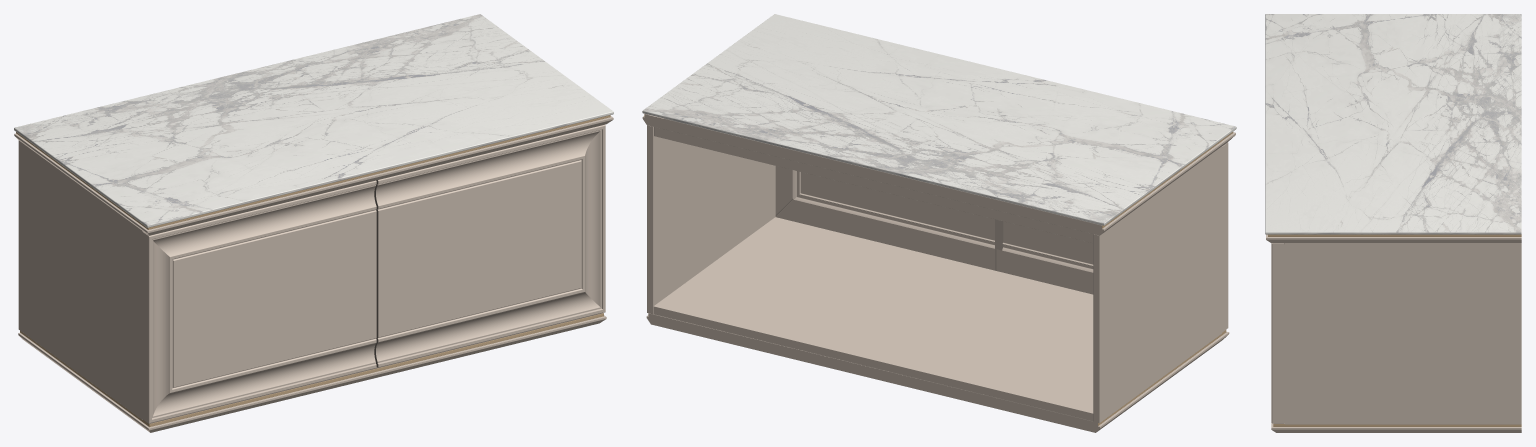
The picture shows the model from 3 angles, left to right: view 1: azimuth 30°, elevation 25°; view 2: azimuth 150°, elevation 25°; view 3: azimuth 270°, elevation 25°; orthographic projection. The views are drawn at different scales.
Parts seen in each view (by area): view 1: BL02.001, BL01.011; view 2: BL02.001, BL01.011; view 3: BL02.001, BL01.011.
Part boxes in pixels (left/top/right/bottom): BL02.001: left=14, top=14, right=613, bottom=432; BL01.011: left=142, top=124, right=605, bottom=423; BL02.001: left=642, top=14, right=1236, bottom=432; BL01.011: left=775, top=142, right=1228, bottom=332; BL02.001: left=1265, top=14, right=1521, bottom=432; BL01.011: left=1271, top=243, right=1284, bottom=423.
Bounding box in the file's own units: 1 × 0.438 × 0.496.
Materials: 4 (2 with a texture image).
